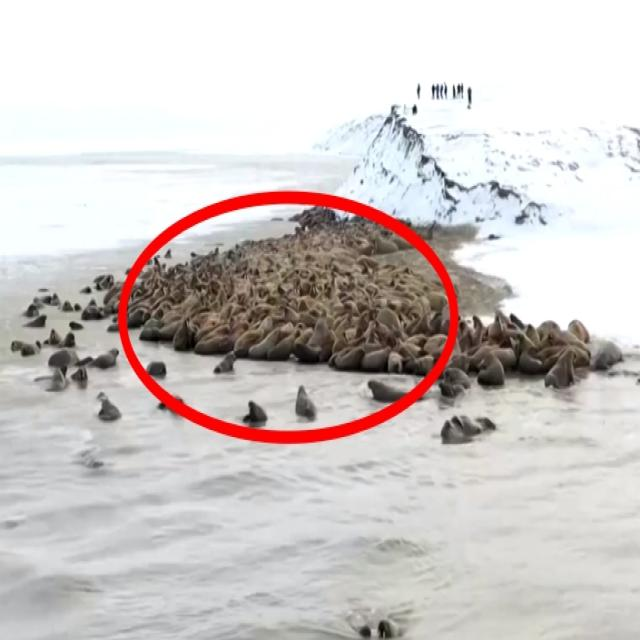walrus: (279, 382, 329, 423)
